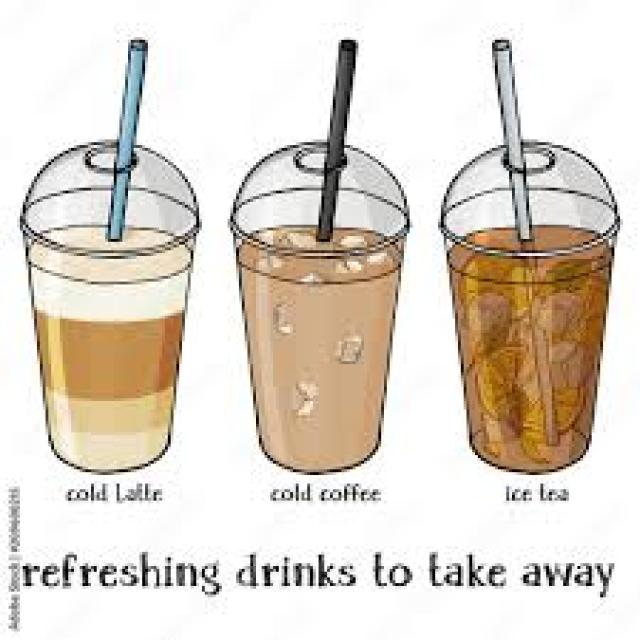bottle: (24, 206, 198, 471), (234, 225, 406, 472), (448, 229, 612, 472)
